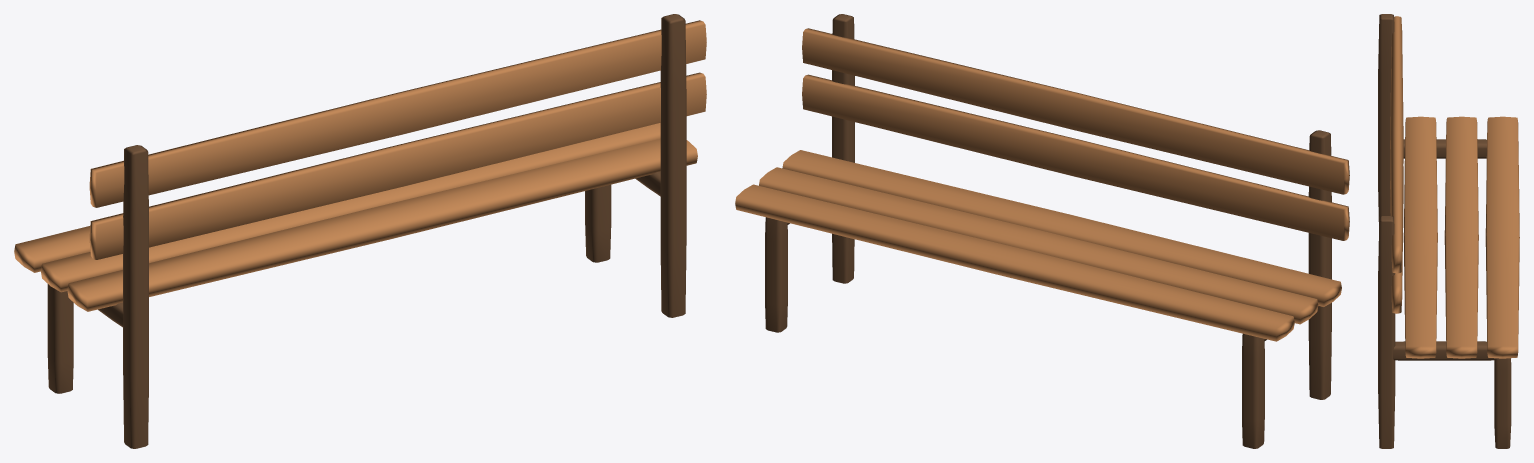
File: StruggleBench.obj
The picture shows the model from 3 angles, left to right: view 1: azimuth 30°, elevation 25°; view 2: azimuth 150°, elevation 25°; view 3: azimuth 270°, elevation 25°; orthographic projection. The views are drawn at different scales.
Parts seen in each view (by area): view 1: Back, Seat, Legs; view 2: Seat, Back, Legs; view 3: Seat, Legs, Back.
Boxes of the visible parts, bbox=[...] form: Back: bbox=[89, 20, 706, 259]; Seat: bbox=[14, 123, 697, 311]; Legs: bbox=[47, 14, 686, 448]; Seat: bbox=[735, 150, 1341, 341]; Back: bbox=[802, 28, 1349, 240]; Legs: bbox=[765, 14, 1331, 448]; Seat: bbox=[1403, 116, 1519, 358]; Legs: bbox=[1378, 14, 1511, 448]; Back: bbox=[1390, 16, 1403, 313].
Size of the model in its own units: 8 by 3.7 by 2.08.
